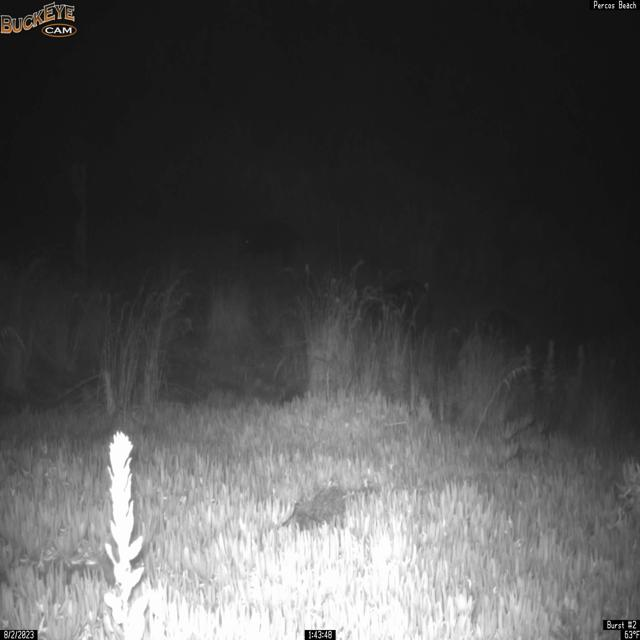pig: (238, 221, 304, 264)
